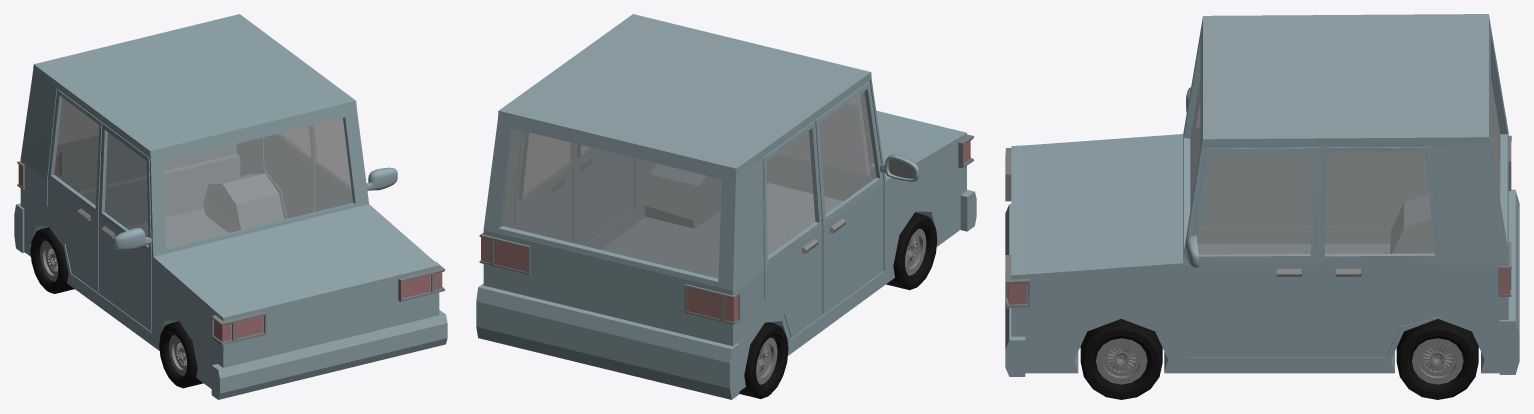
File: car.fbx
3 views of the same model, side by side, from view 1: azimuth 30°, elevation 25°; view 2: azimuth 150°, elevation 25°; view 3: azimuth 270°, elevation 25° (orthographic). The views are drawn at different scales.
Parts seen in each view (by area): view 1: polySurface31; view 2: polySurface31; view 3: polySurface31.
Part boxes in pixels (bbox=[...]): polySurface31: bbox=[14, 14, 447, 399]; polySurface31: bbox=[476, 14, 976, 399]; polySurface31: bbox=[1005, 14, 1519, 399].
Bounding box in the file's own units: 4.56 × 3.26 × 5.87.
